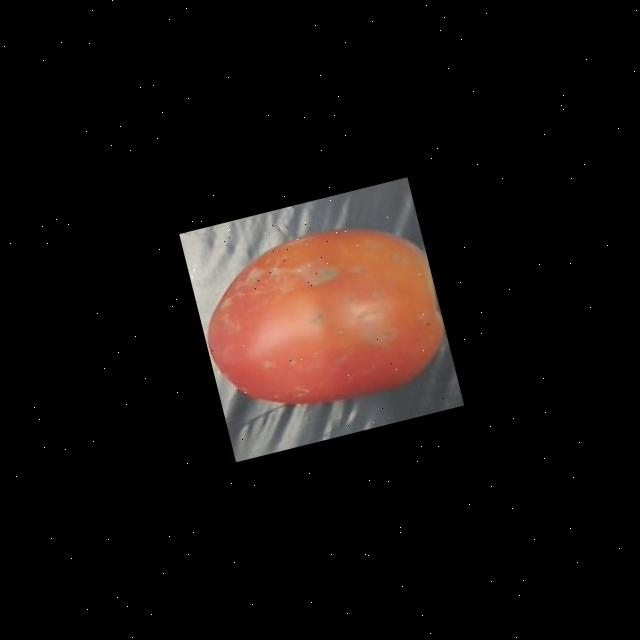tomato: (184, 205, 455, 436)
